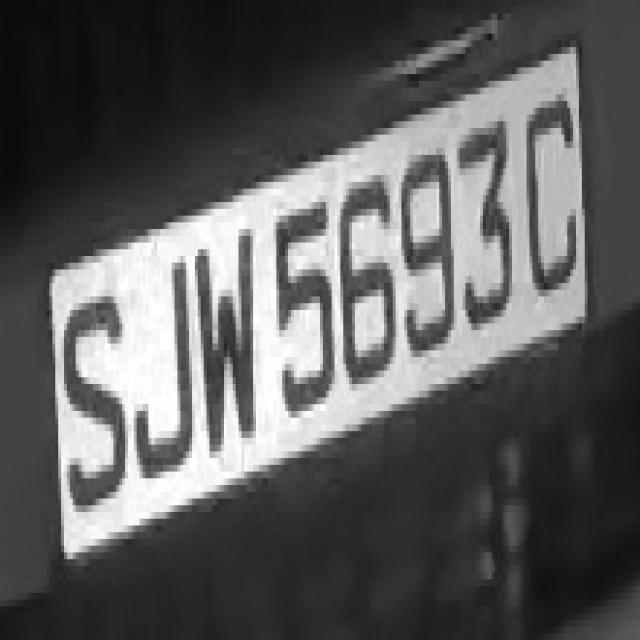3: (451, 94, 515, 330)
5: (268, 162, 338, 444)
6: (332, 148, 404, 411)
9: (392, 114, 460, 364)
C: (518, 61, 579, 303)
J: (122, 229, 198, 499)
S: (47, 270, 122, 546)
W: (195, 209, 259, 471)
